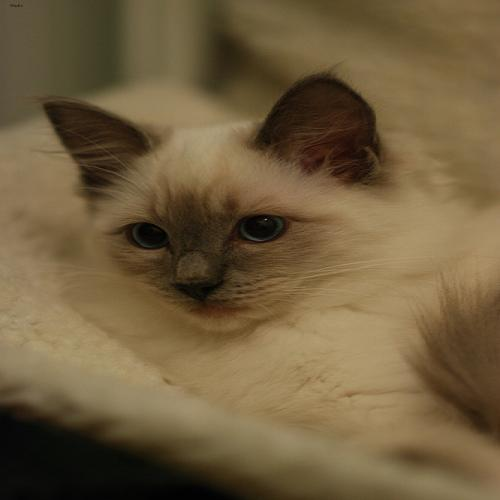ragdoll: (38, 81, 464, 348)
